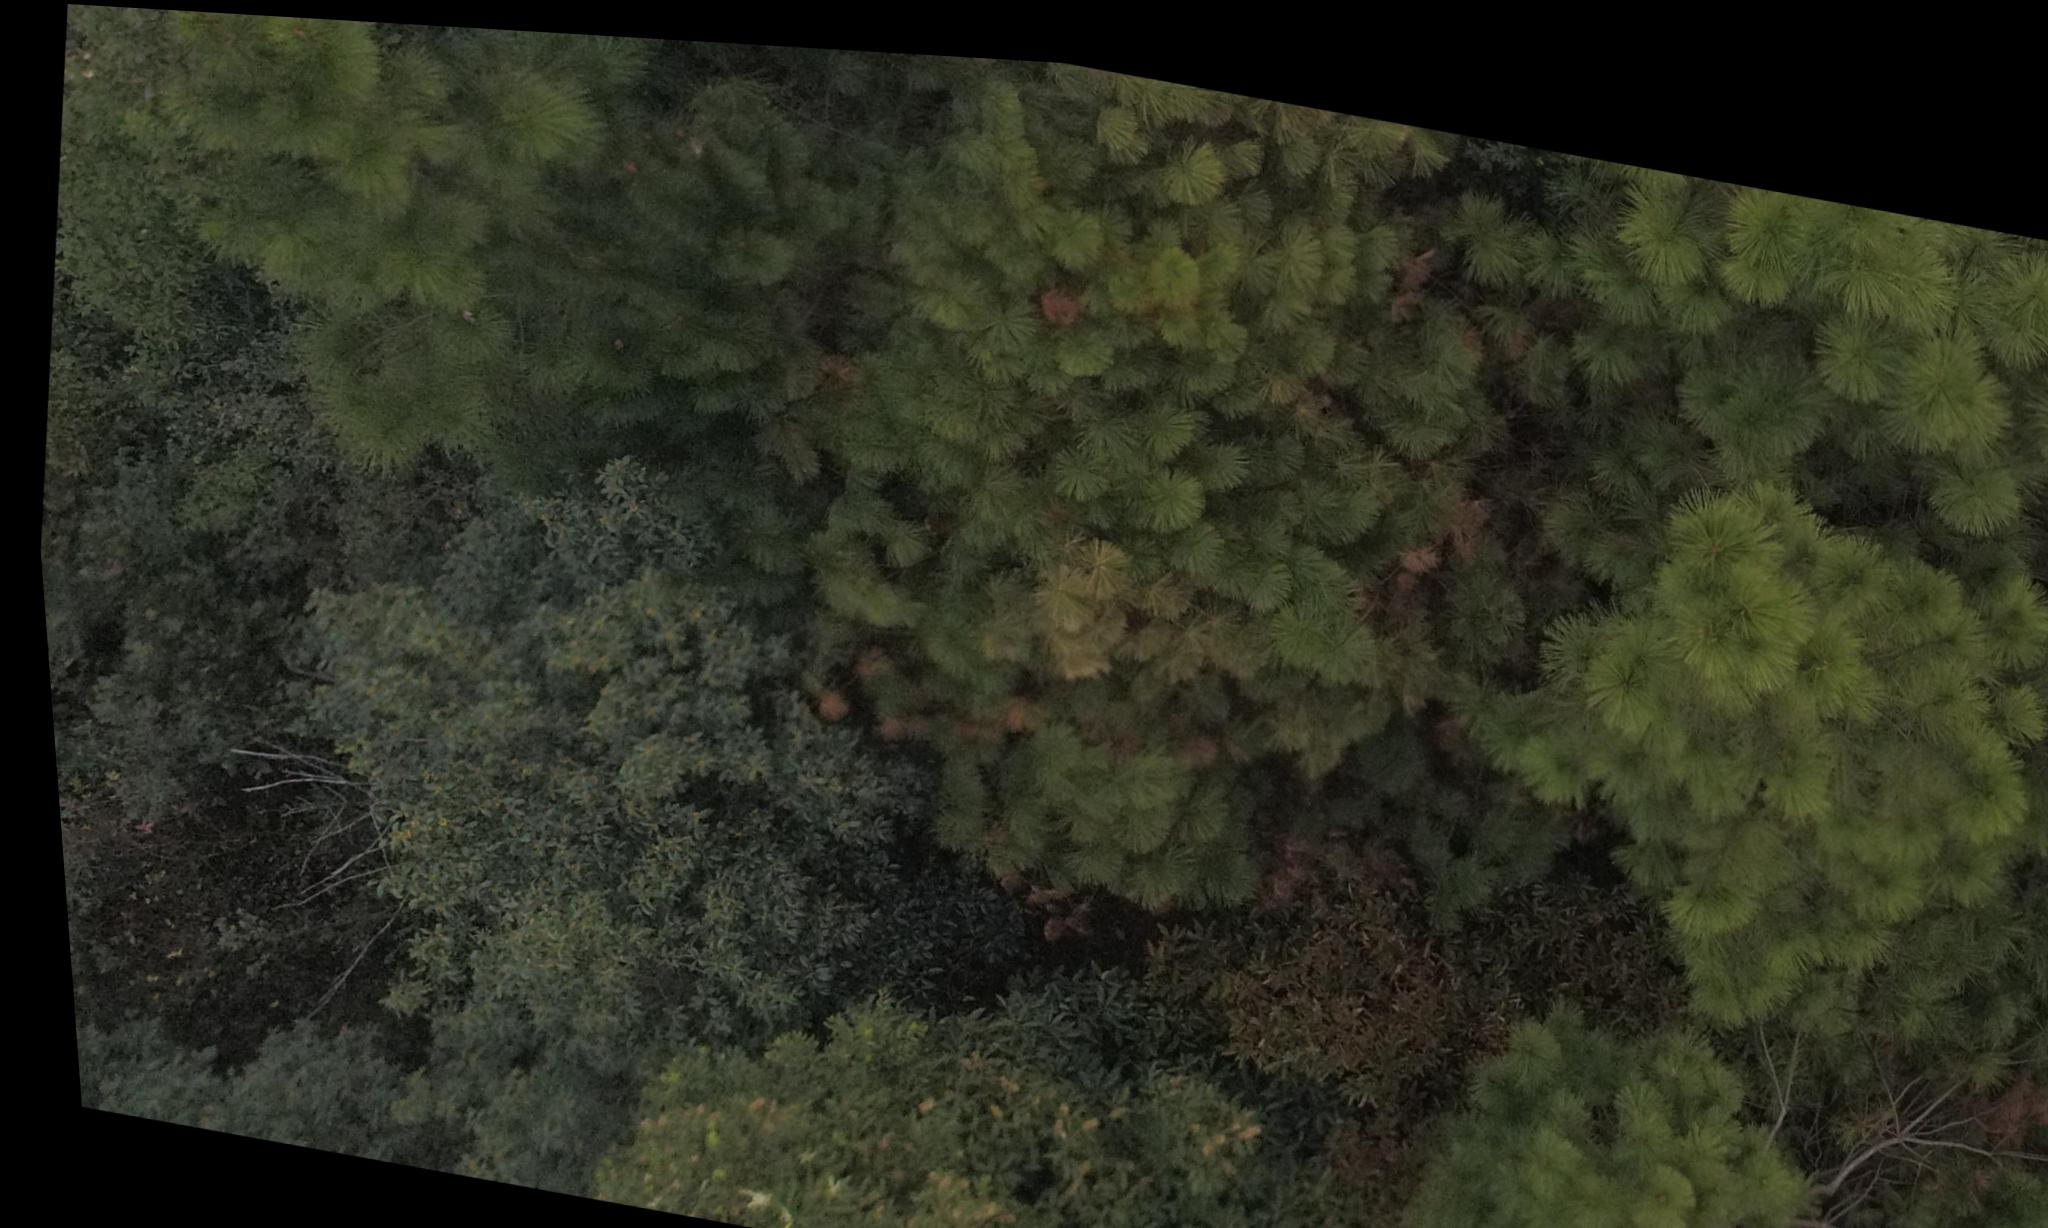light: (794, 142, 1557, 861)
